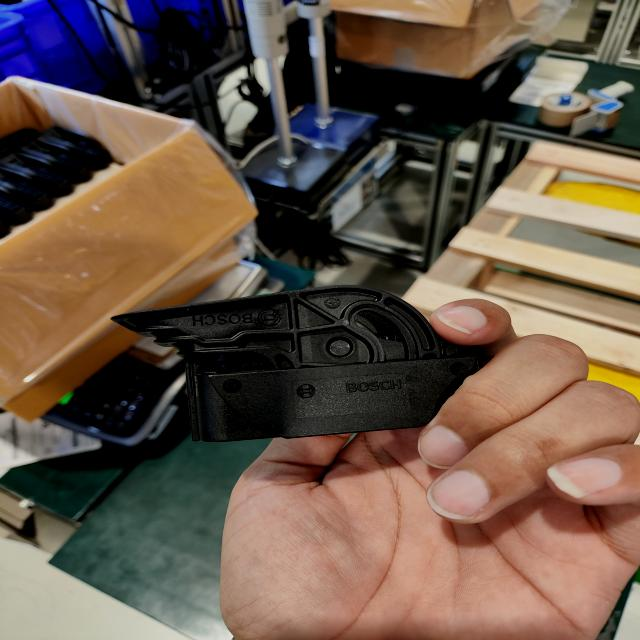P38: (112, 286, 481, 441)
